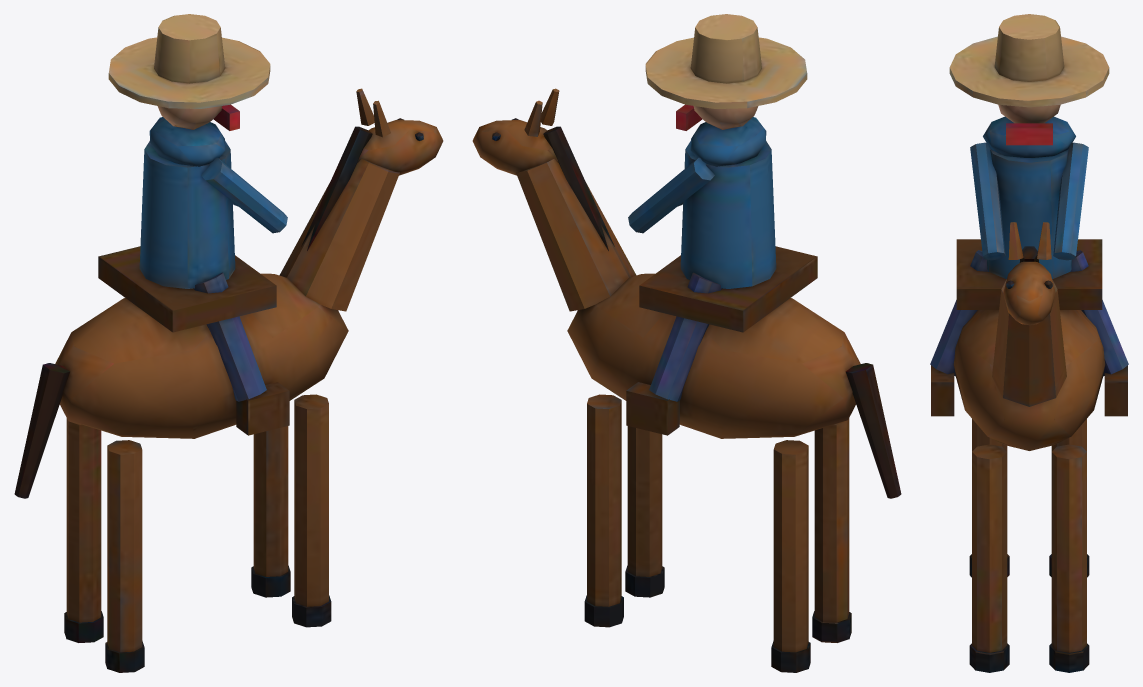
Rendered from vaquero.glb.
3 views of the same model, side by side, from view 1: azimuth 30°, elevation 25°; view 2: azimuth 150°, elevation 25°; view 3: azimuth 270°, elevation 25° (orthographic). The views are drawn at different scales.
Parts seen in each view (by area): view 1: vaquero; view 2: vaquero; view 3: vaquero.
Part boxes in pixels (box(x1,y1,x2,y2)): vaquero: box(14, 14, 443, 672); vaquero: box(472, 14, 901, 672); vaquero: box(930, 14, 1128, 672).
Size of the model in its own units: 2.04 by 2.77 by 0.8475.
Materials: 1 (1 with a texture image).
